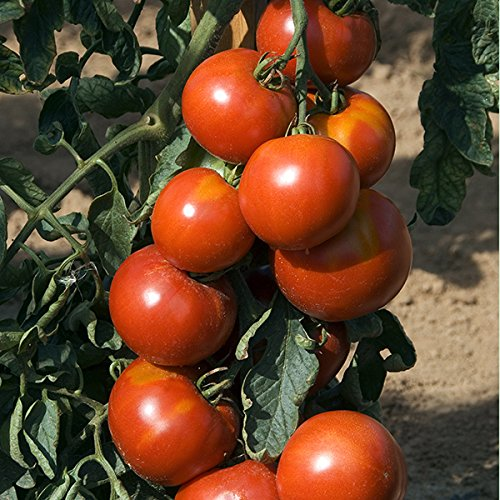tomato: (259, 187, 414, 321), (108, 355, 242, 488), (109, 242, 237, 366), (239, 133, 362, 252), (180, 48, 304, 166), (147, 166, 258, 276), (276, 409, 409, 500), (291, 85, 396, 191), (255, 1, 380, 85), (174, 459, 278, 500)
